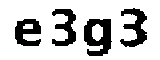3: (117, 5, 152, 50), (49, 8, 78, 49)
e: (11, 16, 44, 49)
g: (80, 16, 115, 60)
